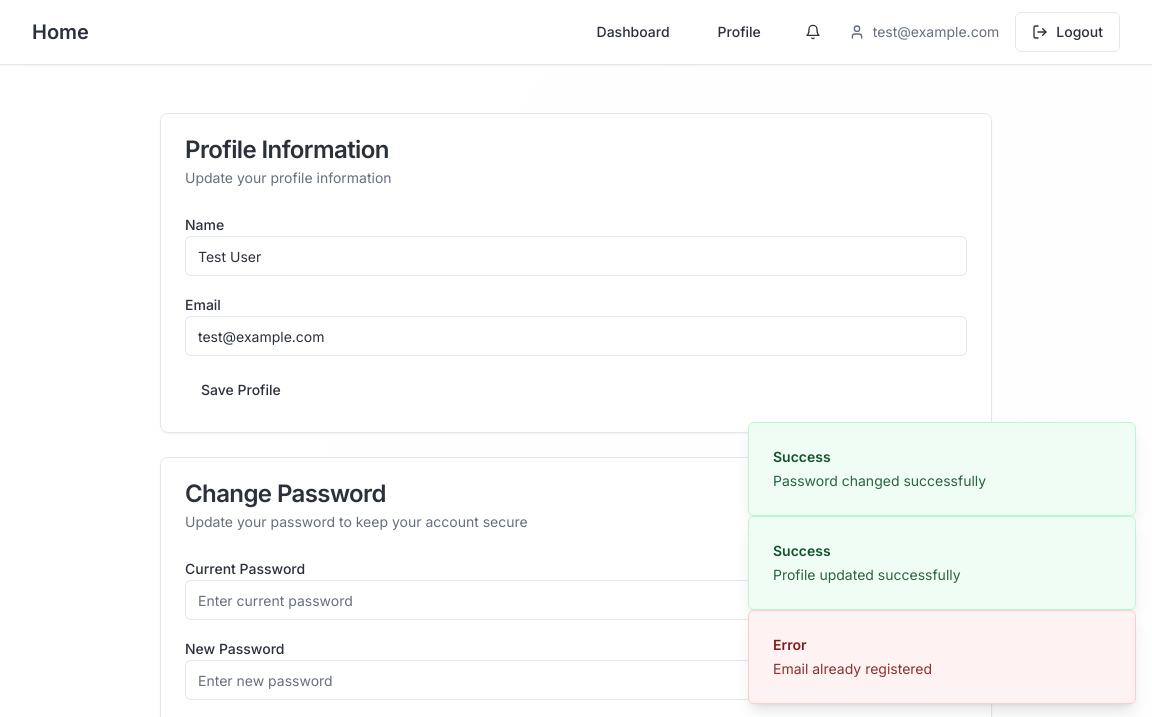
Scenario: Profile Page › should show error on password change failure
Expected: the field showing "test@example.com" is shown, top-left (185, 316), bottom-right (967, 356)
Type "WrongPassword123!" into the password field labelled "Current Password".
click(576, 600); type("WrongPassword123!")  # box top-left (185, 580), bottom-right (967, 620)
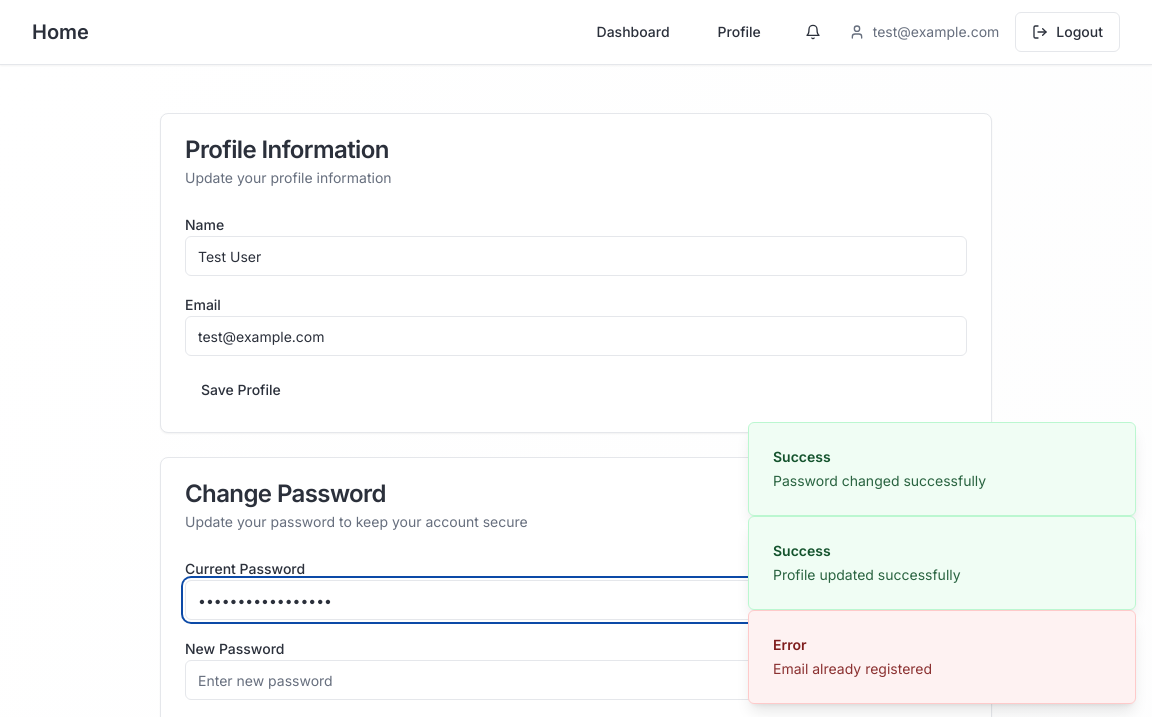
Type "NewPassword123!" into the password field labelled "New Password".
click(576, 680); type("NewPassword123!")  # box top-left (185, 660), bottom-right (967, 700)
(page scrolled)
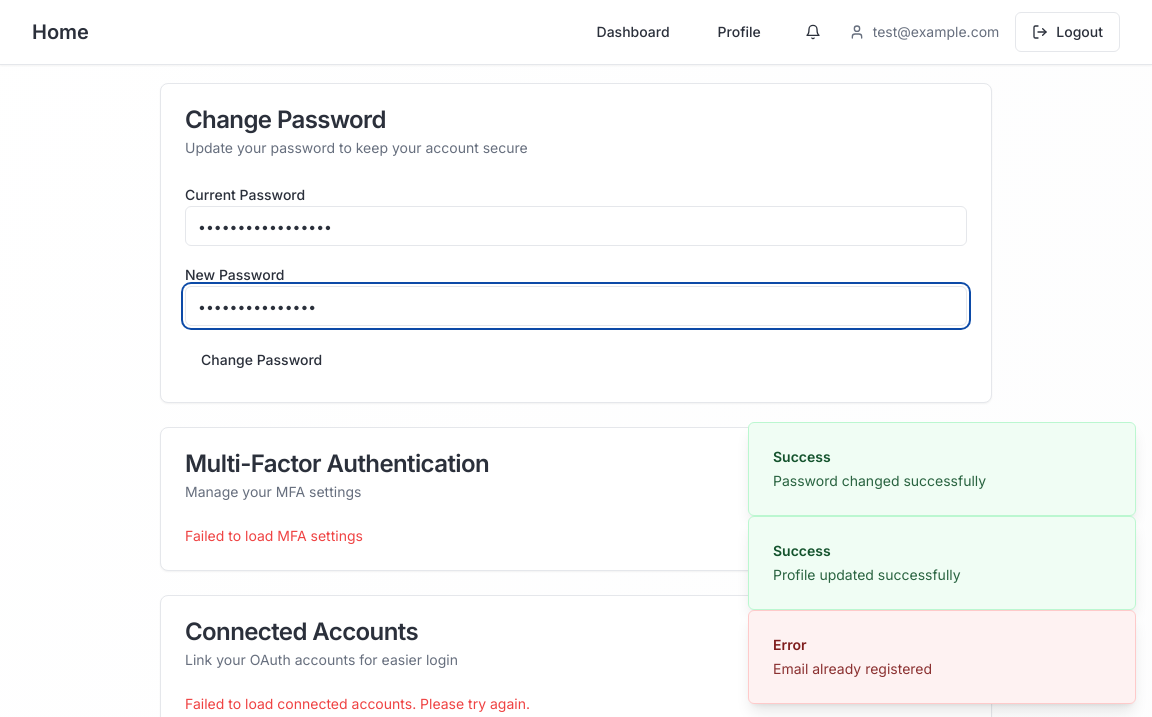
// Find and click change password button
Click the button "Change Password".
click(262, 360)  # box top-left (185, 342), bottom-right (338, 378)
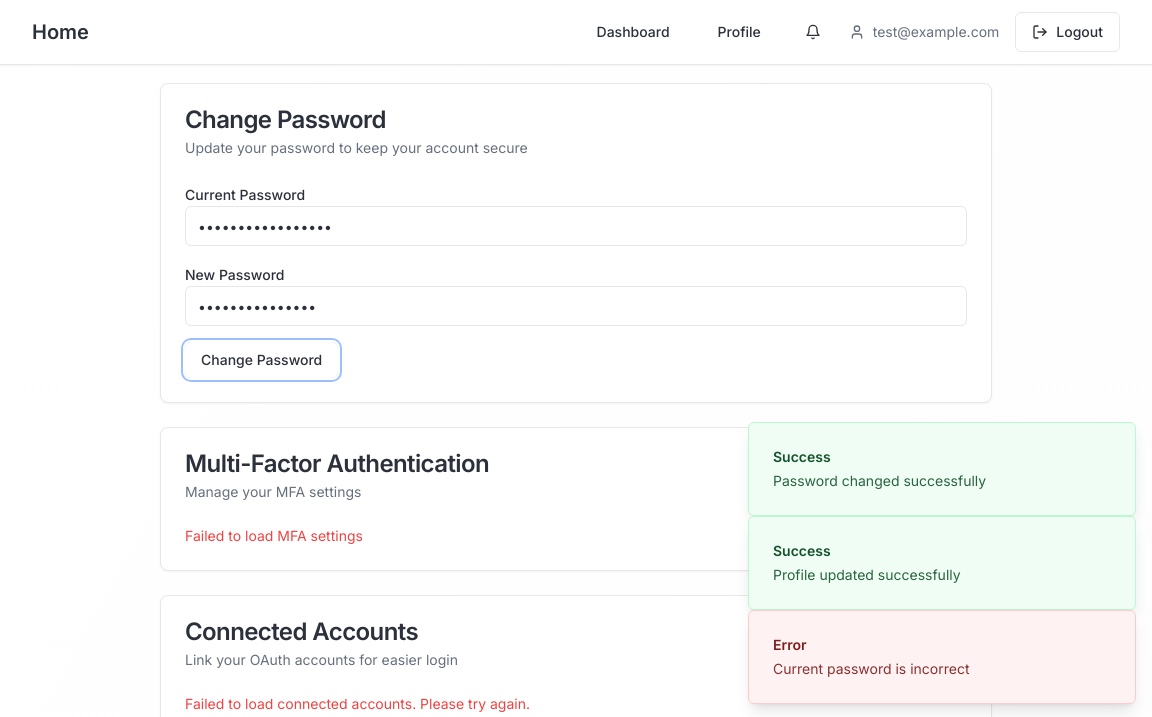
Now the text "Current password is incorrect" is shown, box top-left (773, 659), bottom-right (970, 679)
